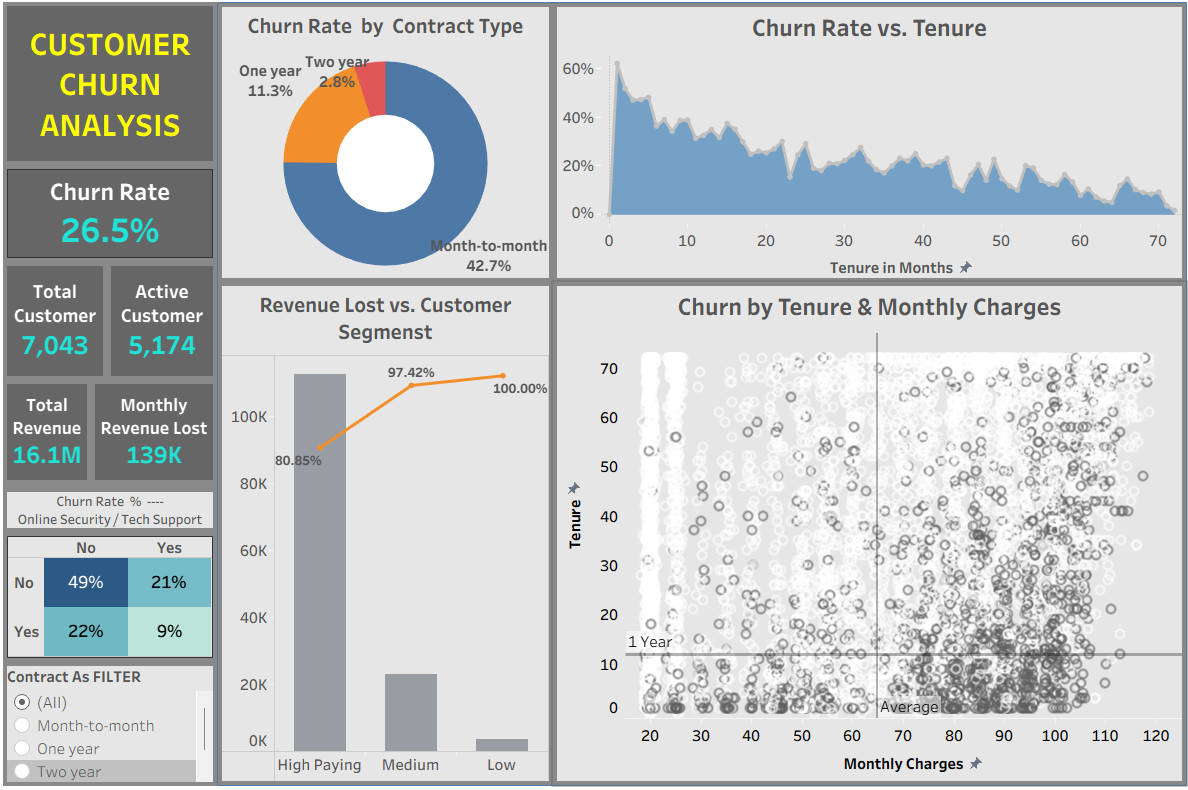

Layout of this report page (visuals, bound fields, positions):
{"tool":"tableau","page":{"name":"Dashboard 1","canvas":[1200,800],"ordinal":0},"visuals":[{"type":"text","box":[8,8,214,163]},{"type":"worksheet","title":"Bar","mark":"Pie","cols":["Calculation_1102596690399244","Calculation_1102596690399244"],"box":[223,9,335,279]},{"type":"worksheet","title":"Line","mark":"Area","rows":["Calculation_1102596642836481","Calculation_1102596642836481"],"cols":["tenure"],"box":[558,9,633,279]},{"type":"worksheet","title":"Churn Rate","mark":"Automatic","box":[8,171,214,97]},{"type":"worksheet","title":"Total Customer","mark":"Automatic","box":[8,268,104,118]},{"type":"worksheet","title":"Active Customer","mark":"Automatic","box":[112,268,110,118]},{"type":"worksheet","title":"Lost","mark":"Automatic","rows":["Calculation_1102596667379718"],"cols":["Calculation_1102596667043845"],"box":[223,288,335,503]},{"type":"worksheet","title":"Scattor","mark":"Shape","rows":["tenure"],"cols":["MonthlyCharges"],"box":[558,288,633,503]},{"type":"worksheet","title":"Revenue","mark":"Automatic","box":[8,386,88,104]},{"type":"worksheet","title":"Revenue Lost","mark":"Automatic","box":[96,386,126,104]},{"type":"text","box":[8,494,214,44]},{"type":"worksheet","title":"Heat","mark":"Automatic","rows":["TechSupport"],"cols":["OnlineSecurity"],"box":[8,538,214,130]},{"type":"filter","title":"Scattor","param":"[federated.1480zqw1w14ao9195dt150sb8js3].[none:Contract:nk]","box":[8,668,214,124]}]}

Visuals, with their boxes in screenshot pixels (x1, y1, x2, y2), scaled from the page's 1200x800 canvas onto the 1188x790 screenshot:
text: 8, 8, 220, 169
"Bar" worksheet (Pie marks): 221, 9, 552, 284
"Line" worksheet (Area marks): 552, 9, 1179, 284
"Churn Rate" worksheet: 8, 169, 220, 265
"Total Customer" worksheet: 8, 265, 111, 381
"Active Customer" worksheet: 111, 265, 220, 381
"Lost" worksheet: 221, 284, 552, 781
"Scattor" worksheet (Shape marks): 552, 284, 1179, 781
"Revenue" worksheet: 8, 381, 95, 484
"Revenue Lost" worksheet: 95, 381, 220, 484
text: 8, 488, 220, 531
"Heat" worksheet: 8, 531, 220, 660
"Scattor" filter: 8, 660, 220, 782
